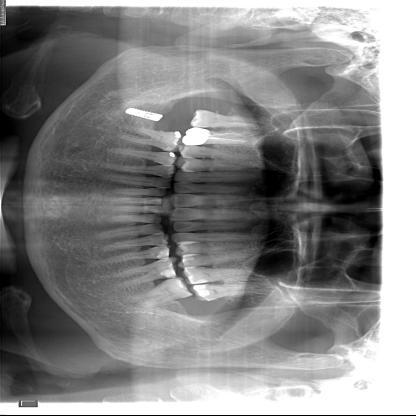ITI: (121, 100, 174, 127)
